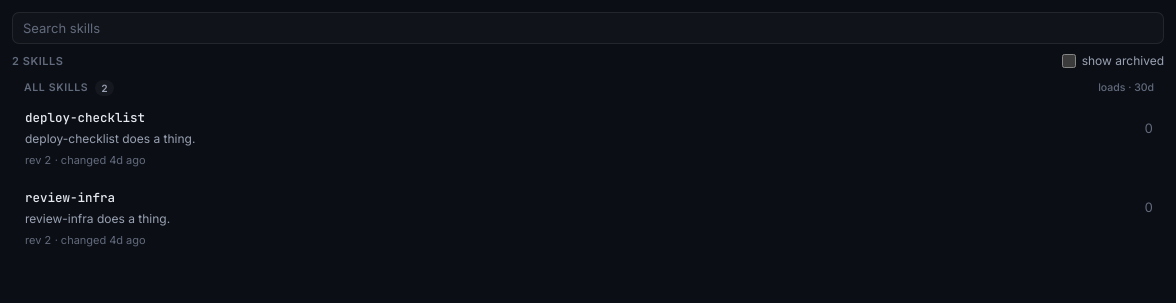
Test: SkillList › keeps an archived skill's waiting revision in view
Expected: the text "deploy-checklist" is shown, [25,109,145,126]
Click the checkbox labelled "show archived". click: click(1069, 61)
box: [1062,54,1076,68]
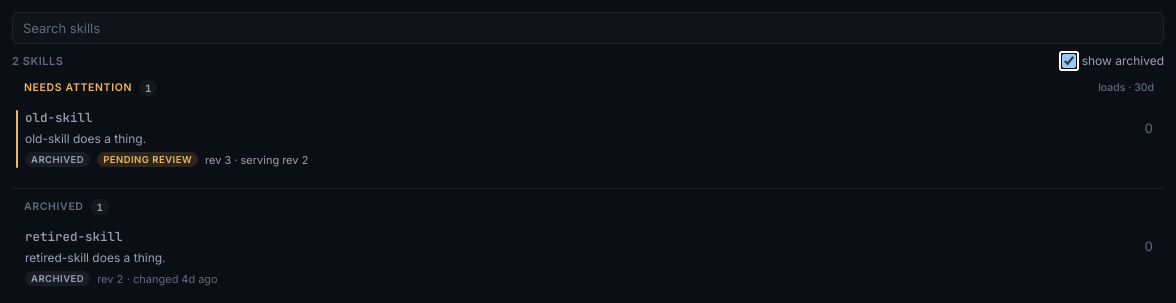
Now the text "old-skill" is shown, box [25,109,92,126]
Now the text "archived" below "Needs attention" is shown, box [31,154,84,165]
Now the text "pending review" is shown, box [97,152,198,167]
